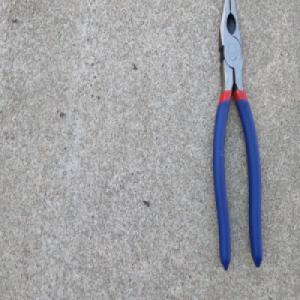Pliers: (211, 0, 265, 271)
